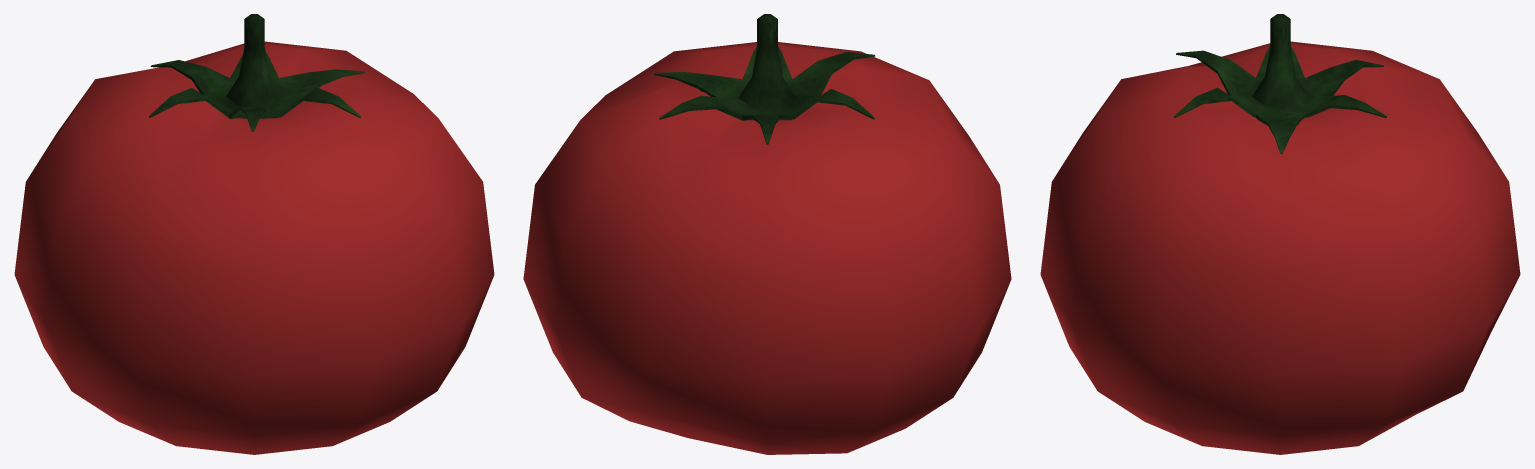
Rendered from Tomatoes.fbx.
3 views of the same model, side by side, from view 1: azimuth 30°, elevation 25°; view 2: azimuth 150°, elevation 25°; view 3: azimuth 270°, elevation 25° (orthographic).
Parts seen in each view (by area): view 1: Tomato_red; view 2: Tomato_red; view 3: Tomato_red.
Part boxes in pixels (<box>): Tomato_red: <box>14,14,494,454</box>; Tomato_red: <box>523,14,1011,454</box>; Tomato_red: <box>1040,14,1520,454</box>.
Bounding box in the file's own units: 194 × 180 × 197.
1 material, 1 textured.
